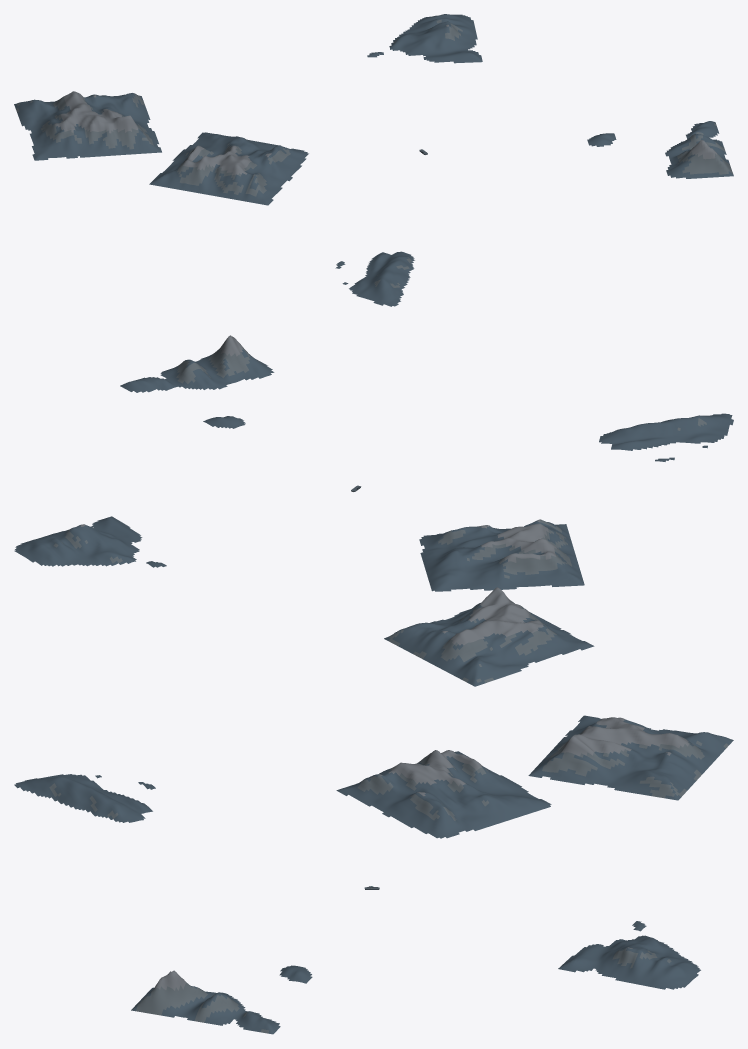
File: carrier-stage.glb
3 renders of one model, top to bottom at view 1: azimuth 30°, elevation 25°; view 2: azimuth 150°, elevation 25°; view 3: azimuth 270°, elevation 25°, orthographic. The views are drawn at different scales.
Visible parts, largest first — view 1: Surveyed coastal section 2, Surveyed coastal section 1, Surveyed coastal section 4, Surveyed coastal section 3, Surveyed coastal section 5; view 2: Surveyed coastal section 2, Surveyed coastal section 1, Surveyed coastal section 4, Surveyed coastal section 3, Surveyed coastal section 5; view 3: Surveyed coastal section 2, Surveyed coastal section 1, Surveyed coastal section 4, Surveyed coastal section 3, Surveyed coastal section 5.
Part boxes in pixels (left/top/right/bottom): Surveyed coastal section 2: left=14, top=91, right=161, bottom=160; Surveyed coastal section 1: left=149, top=132, right=308, bottom=205; Surveyed coastal section 4: left=367, top=14, right=482, bottom=63; Surveyed coastal section 3: left=587, top=121, right=733, bottom=178; Surveyed coastal section 5: left=335, top=251, right=414, bottom=306; Surveyed coastal section 2: left=384, top=587, right=594, bottom=686; Surveyed coastal section 1: left=419, top=519, right=584, bottom=591; Surveyed coastal section 4: left=14, top=516, right=166, bottom=567; Surveyed coastal section 3: left=120, top=335, right=274, bottom=428; Surveyed coastal section 5: left=599, top=413, right=733, bottom=461; Surveyed coastal section 2: left=528, top=715, right=733, bottom=800; Surveyed coastal section 1: left=336, top=750, right=551, bottom=838; Surveyed coastal section 4: left=558, top=921, right=700, bottom=989; Surveyed coastal section 3: left=131, top=965, right=312, bottom=1034; Surveyed coastal section 5: left=14, top=774, right=155, bottom=822.
Size of the model in its own units: 11290 by 522 by 10767.
